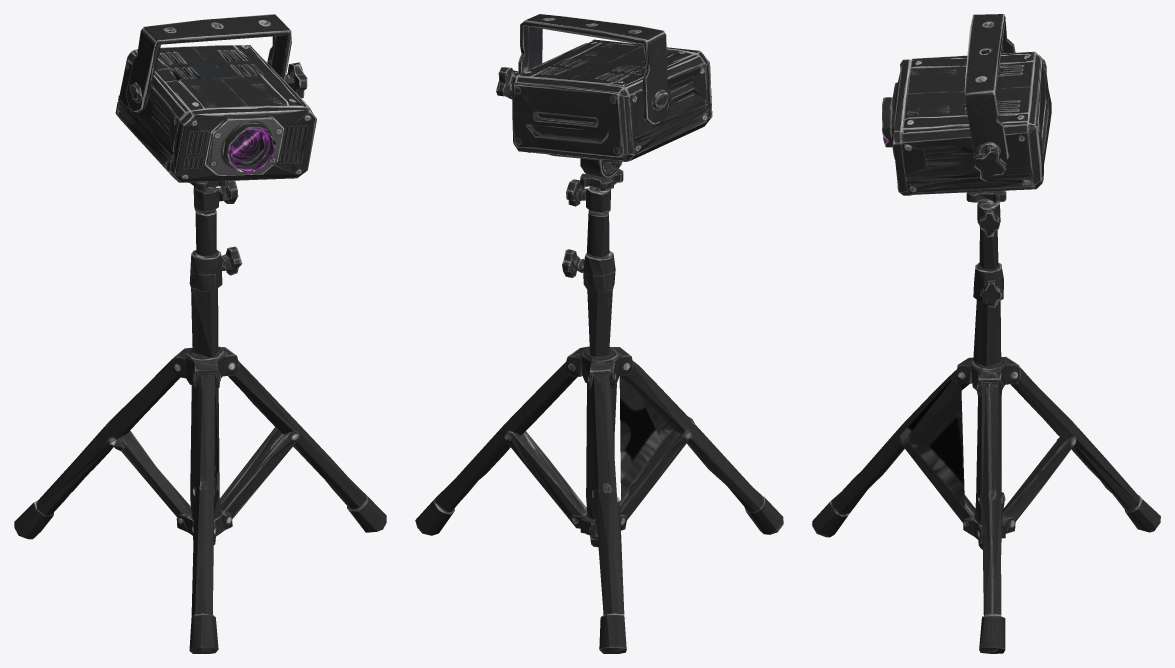
The model's file is laser_new_opt.glb.
The picture shows the model from 3 angles, left to right: view 1: azimuth 30°, elevation 25°; view 2: azimuth 150°, elevation 25°; view 3: azimuth 270°, elevation 25°; orthographic projection. The views are drawn at different scales.
Visible parts, largest first — view 1: output_unwrapped; view 2: output_unwrapped; view 3: output_unwrapped.
Part boxes in pixels (<box>): output_unwrapped: <box>14,14,386,653</box>; output_unwrapped: <box>415,14,783,653</box>; output_unwrapped: <box>812,14,1160,653</box>.
Bounding box in the file's own units: 1.04 × 1.9 × 1.12.
Materials: 1 (1 with a texture image).
